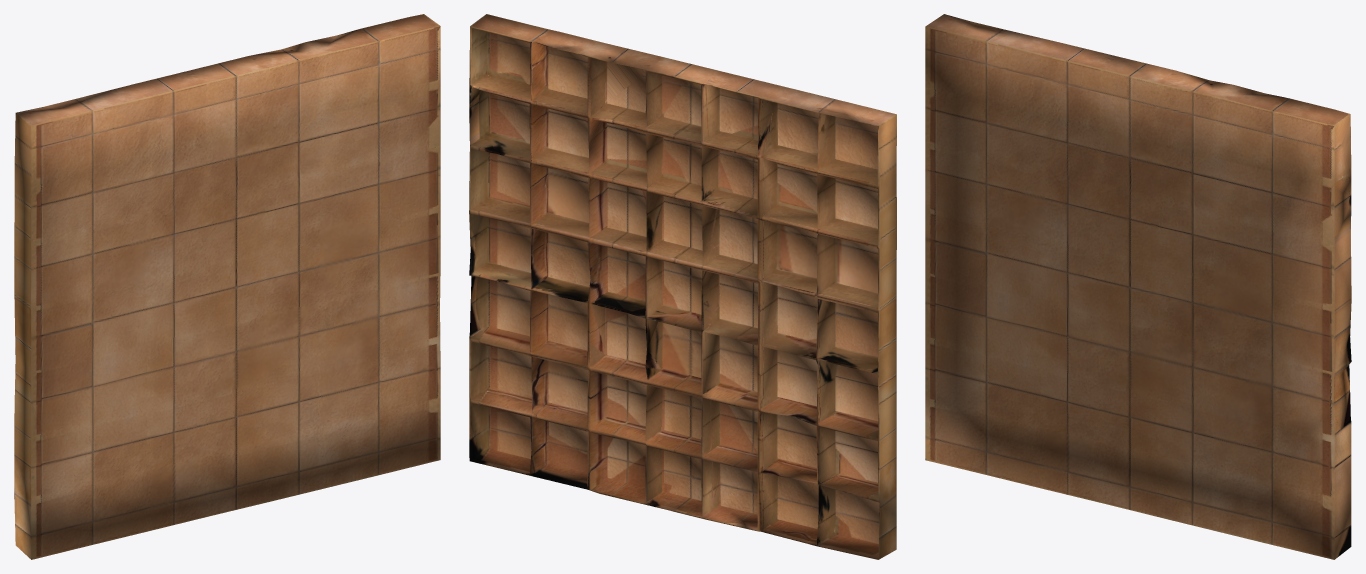
The model's file is Floor.glb.
3 views of the same model, side by side, from view 1: azimuth 30°, elevation 25°; view 2: azimuth 150°, elevation 25°; view 3: azimuth 330°, elevation 25° (orthographic).
Bounding box in the file's own units: 1.89 × 1.91 × 0.1412.
1 material, 1 textured.
